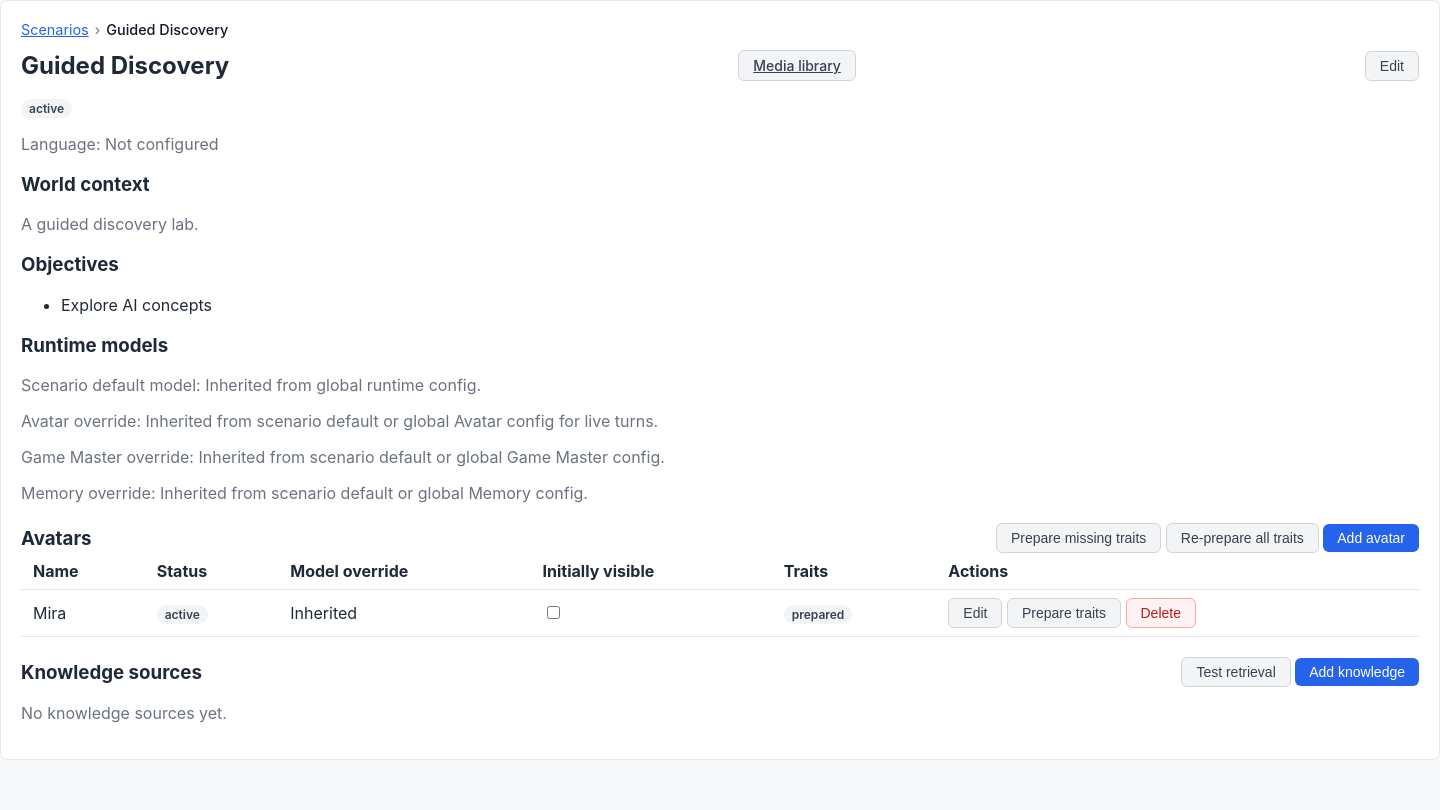
it: ScenarioDetailPage targeted avatar trait preparation › requests only unprepared avatars and reports when none needed preparation
The width and height of the screenshot is (1440, 810).
Expected: the heading "Guided Discovery" is shown, [21,51,229,80]
Click the button "Prepare missing traits": point(1079, 538) [996,523,1161,553]
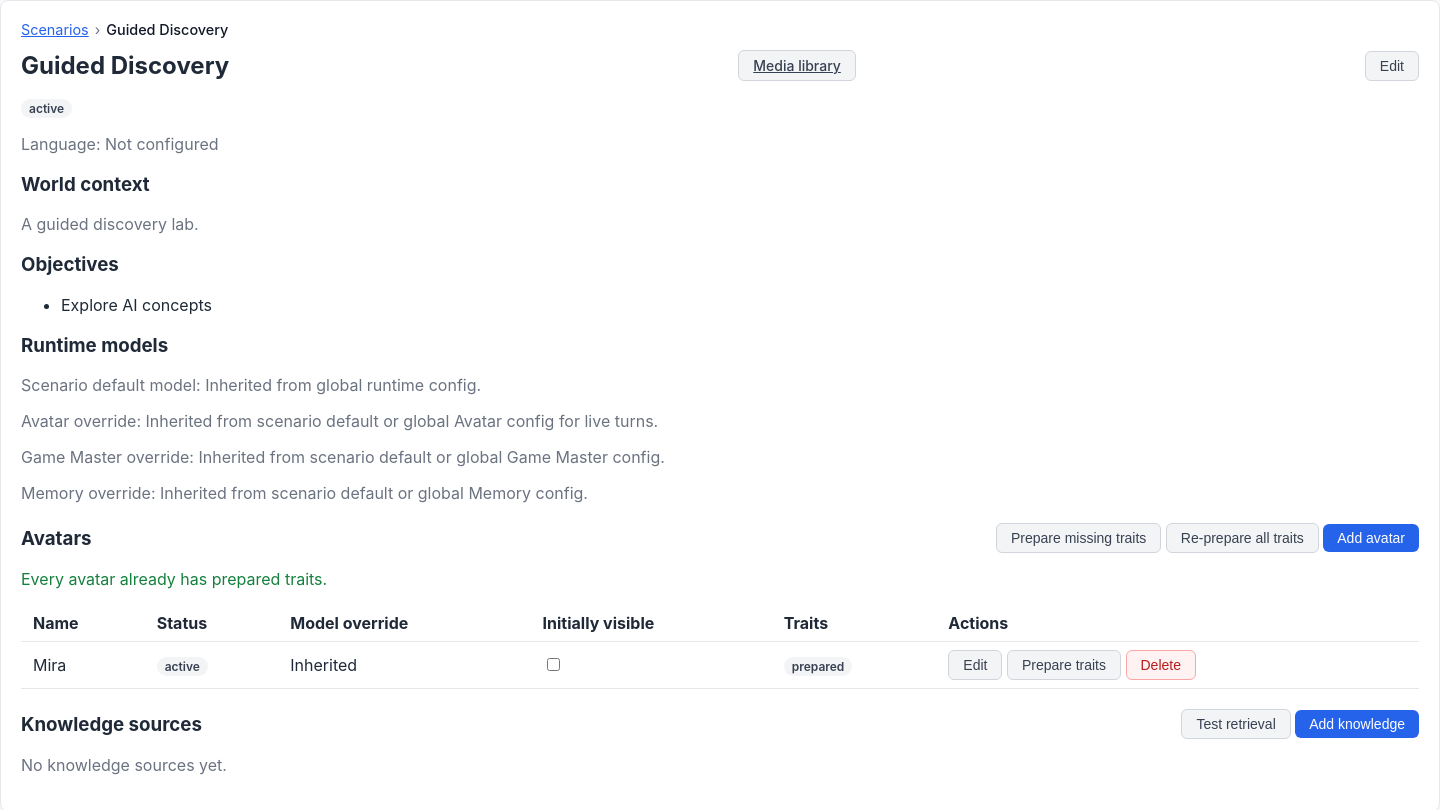
Now the text "Every avatar already has prepared traits." is shown, box [21,569,327,589]
